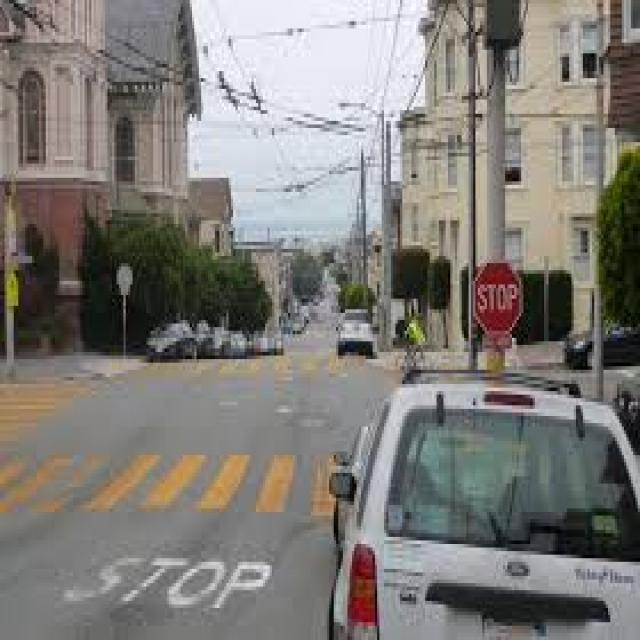stop-sign: (461, 255, 529, 336)
